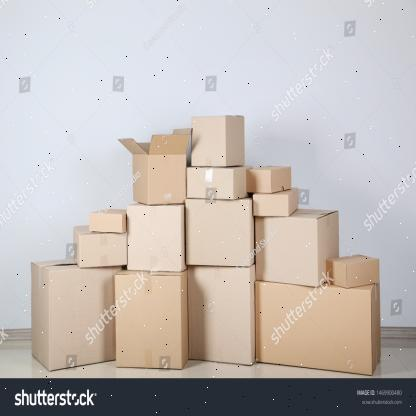box: (255, 281, 373, 377), (50, 268, 124, 371), (186, 264, 252, 366), (116, 278, 181, 368), (185, 199, 251, 267), (255, 218, 319, 286), (128, 205, 182, 272), (147, 155, 187, 205), (192, 116, 228, 166), (78, 234, 127, 268), (186, 169, 235, 199), (346, 258, 379, 289), (253, 194, 288, 216), (90, 213, 124, 234), (246, 168, 272, 194)
